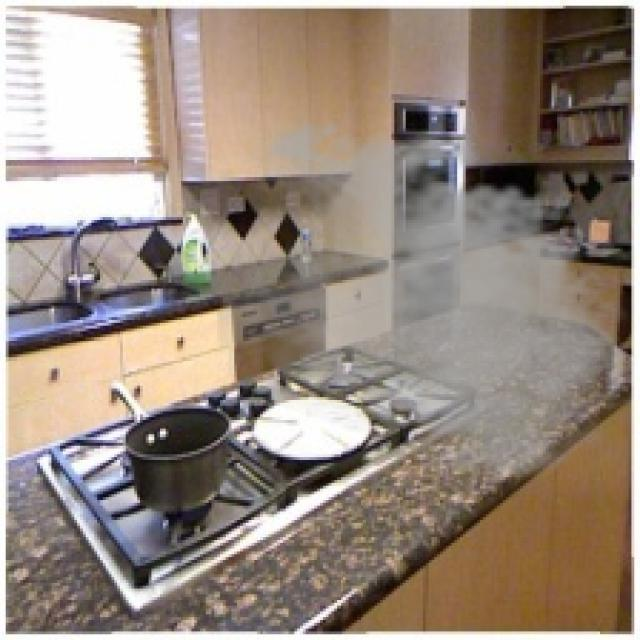Smoke: (217, 109, 637, 488)
